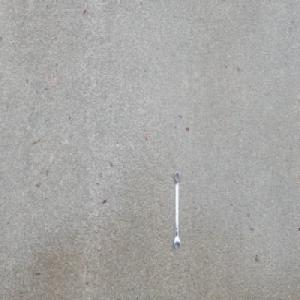Wrench: (172, 169, 181, 251)
